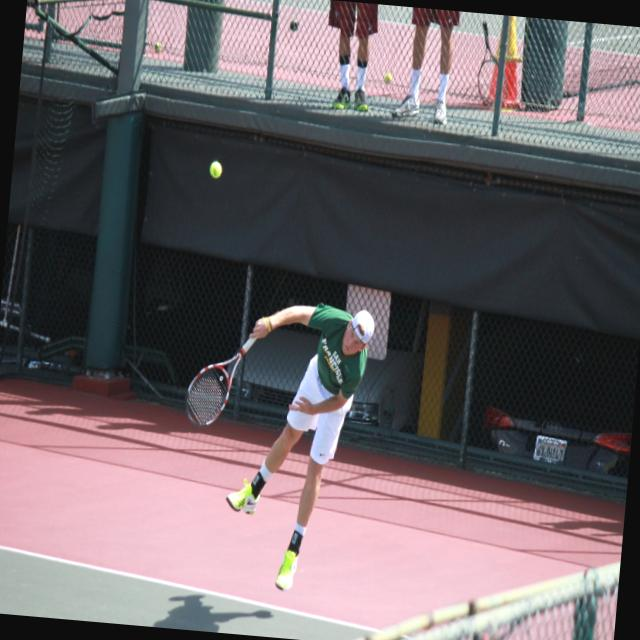Tennis Ball: (209, 160, 221, 177)
